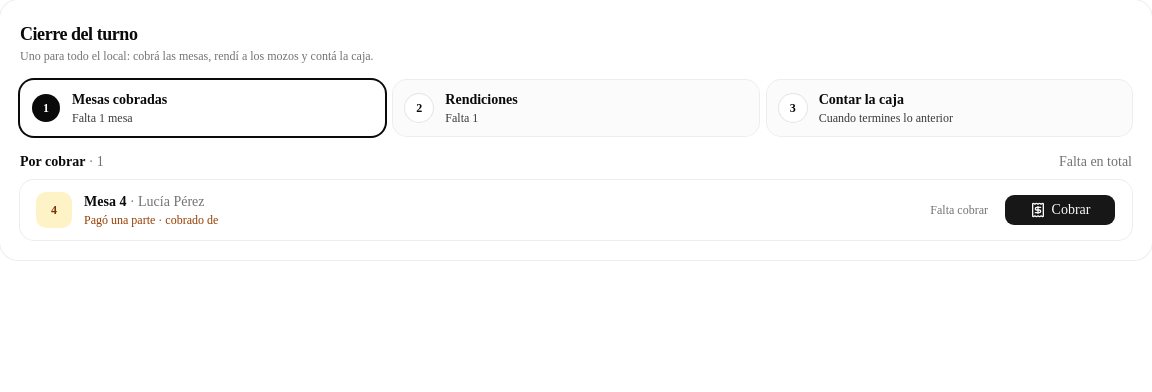
CierreDelTurno › pestañas (spec 217 · D1) › con mesas pendientes se puede mirar otro paso tocándolo
Check: the text "Falta 1 mesa" is shown, box x1=72 y1=111 x2=133 y2=125
Click the tab "2 Rendiciones Falta 1".
click(482, 100)  # box x1=393 y1=80 x2=759 y2=136
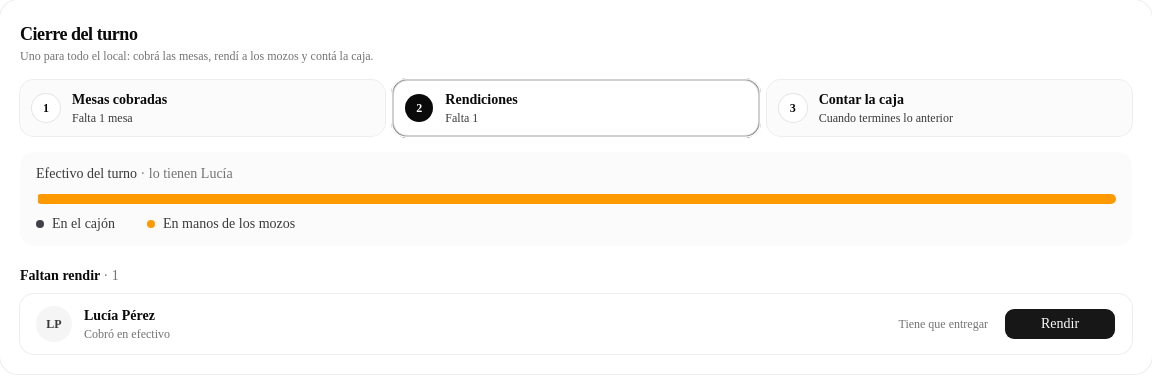
Check: the button with aria-label "Rendir a Lucía Pérez" is shown, box x1=1004 y1=308 x2=1116 y2=340
